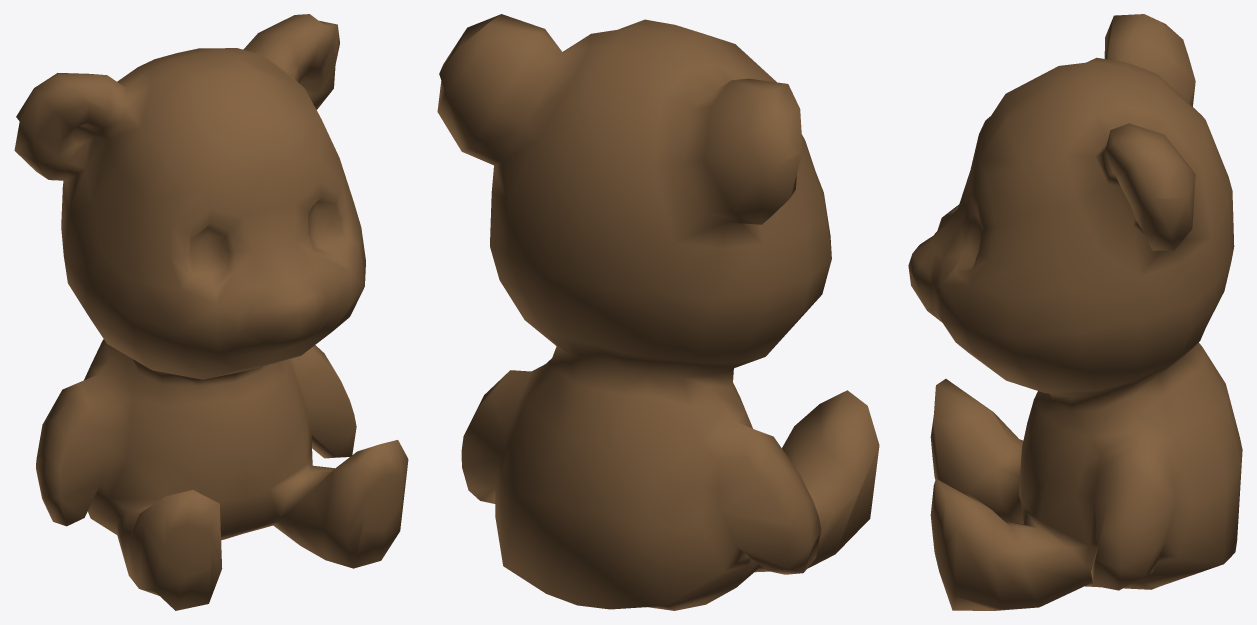
The model's file is TeddyBearLowPolyModel.fbx.
3 views of the same model, side by side, from view 1: azimuth 30°, elevation 25°; view 2: azimuth 150°, elevation 25°; view 3: azimuth 270°, elevation 25° (orthographic). The views are drawn at different scales.
Parts seen in each view (by area): view 1: TeddyBearLowPoly; view 2: TeddyBearLowPoly; view 3: TeddyBearLowPoly.
Part boxes in pixels (x1,y1,x2,y2): TeddyBearLowPoly: (14, 14, 408, 610); TeddyBearLowPoly: (437, 14, 879, 610); TeddyBearLowPoly: (908, 14, 1242, 610).
Size of the model in its own units: 10.45 by 15.04 by 9.24.
